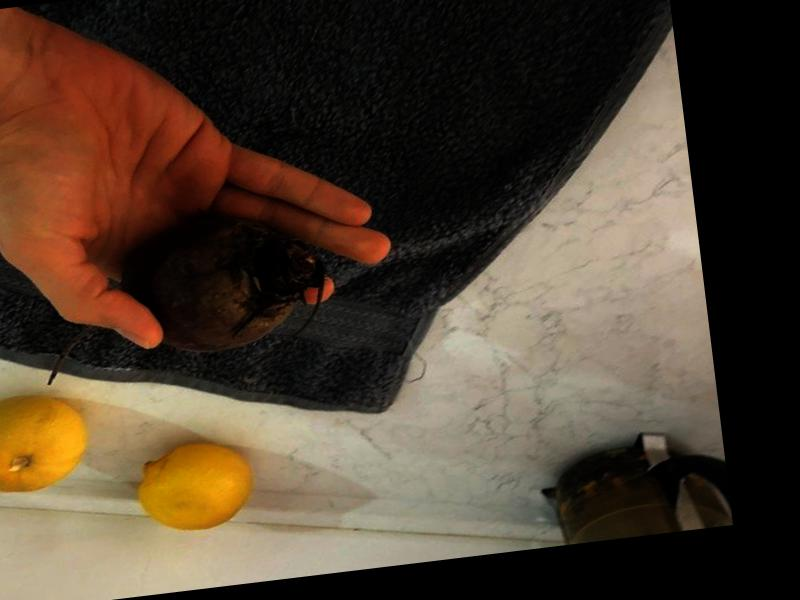Beet: (29, 203, 332, 385)
